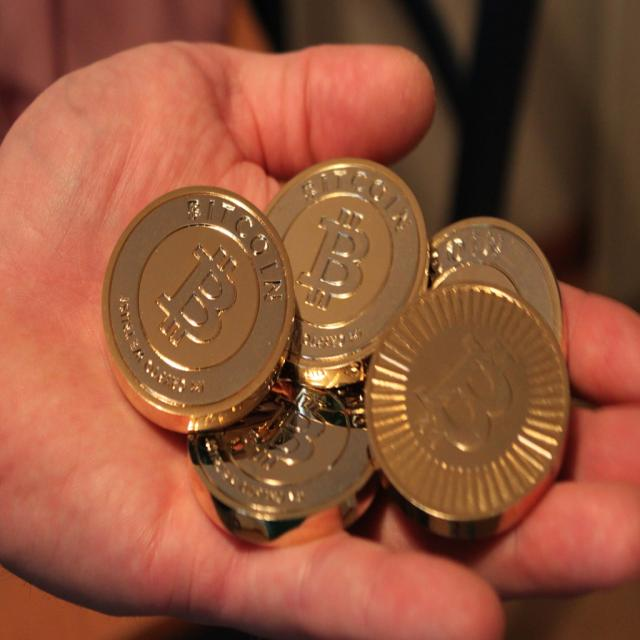Coin: (97, 152, 574, 549), (98, 200, 287, 440)
